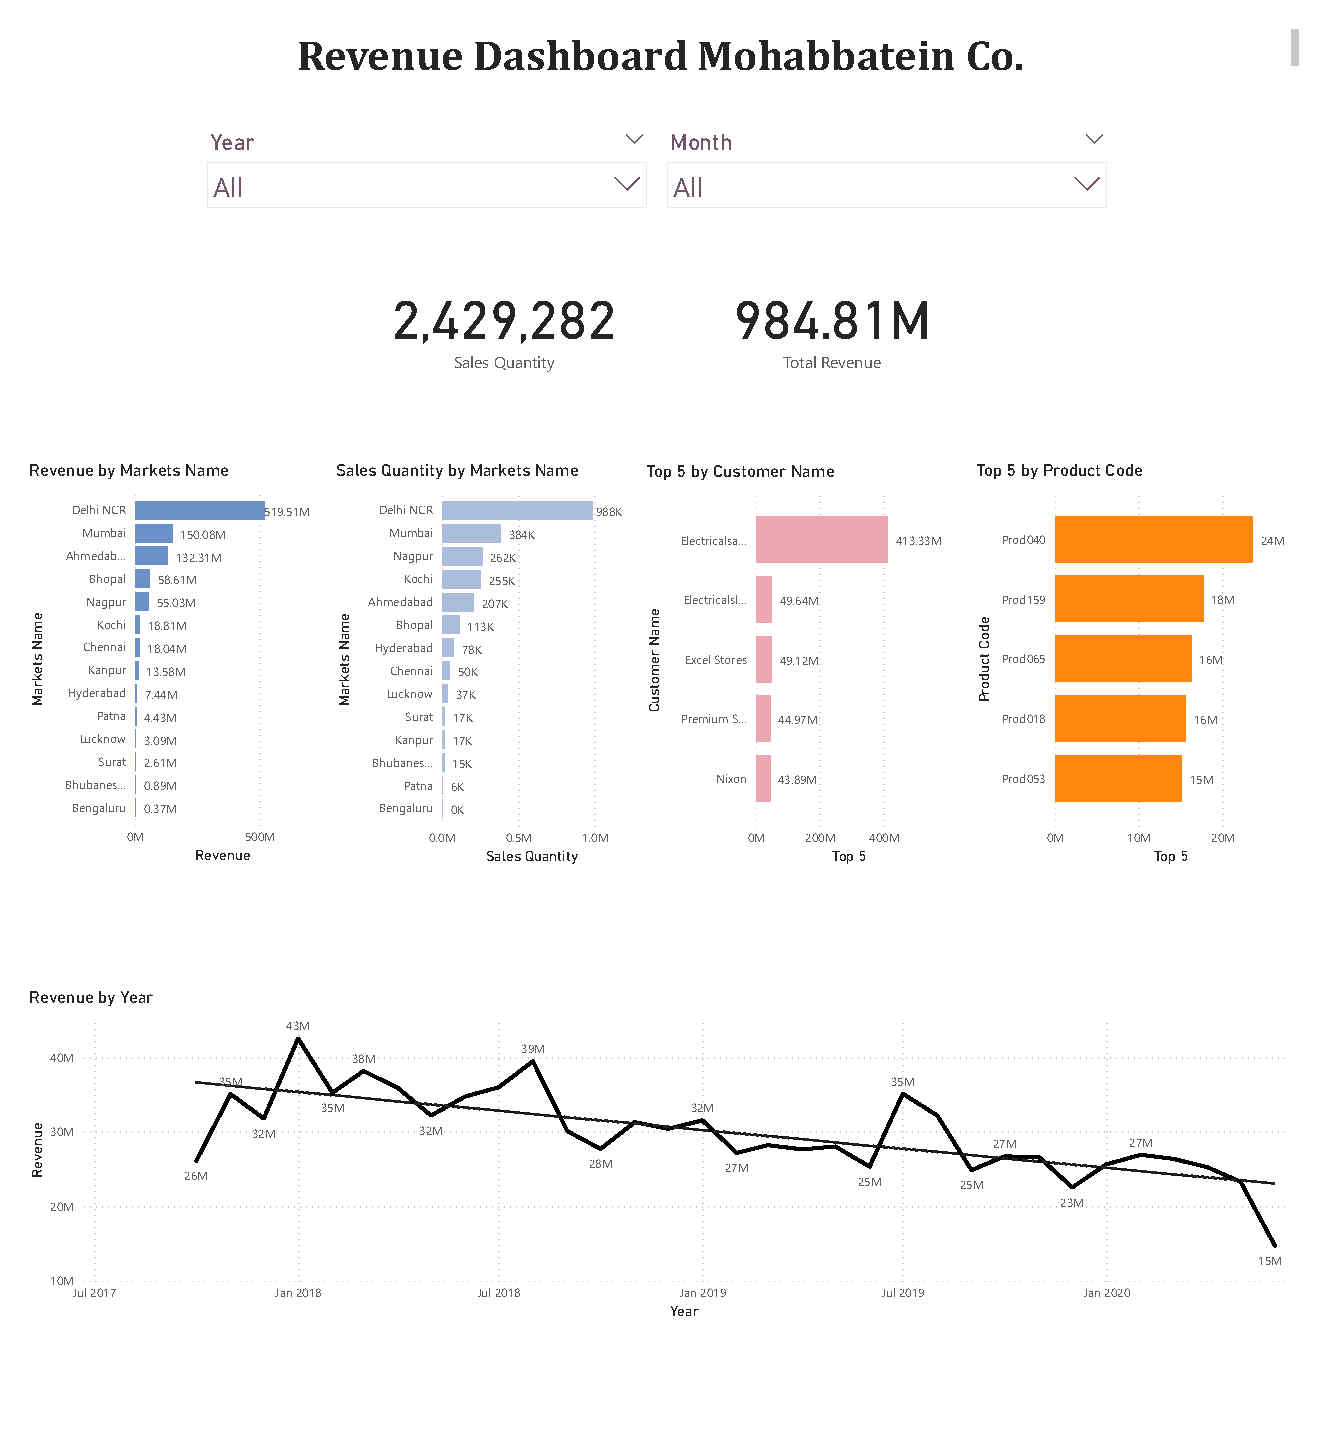

What the dashboard file says about the page in this screenshot:
{"tool":"powerbi","page":{"name":"Revenue","canvas":[1280,1400],"ordinal":0},"visuals":[{"type":"card","fields":{"Values":["sales transactions.sales_qty"]},"box":[326.7,208,306.7,183.3],"z":0},{"type":"card","fields":{"Values":["sales transactions.sales_amount"]},"box":[633.3,208,350,183.3],"z":1000},{"type":"clusteredBarChart","fields":{"Category":["sales markets.markets_name"],"Y":["sales transactions.sales_amount"]},"box":[0,436,306.7,408.3],"z":2000},{"type":"clusteredBarChart","fields":{"Category":["sales markets.markets_name"],"Y":["sales transactions.sales_qty"]},"box":[306.7,436.3,310,408.3],"z":3000},{"type":"clusteredBarChart","fields":{"Category":["sales customers.customer_name"],"Y":["sales transactions.convert_amount"]},"box":[616.7,436.7,323.3,408.3],"z":4000},{"type":"clusteredBarChart","fields":{"Category":["sales products.product_code"],"Y":["sales transactions.convert_amount"]},"box":[946.7,436.3,333.3,408.3],"z":5000},{"type":"lineChart","fields":{"Y":["sales transactions.convert_amount"],"Category":["sales date.cy_date"]},"box":[0,963.3,1280,336.7],"z":6000},{"type":"slicer","fields":{"Values":["sales date.cy_date.Variation.Date Hierarchy.Year"]},"box":[173.3,100,460,88.3],"z":7000},{"type":"slicer","fields":{"Values":["sales date.cy_date.Variation.Date Hierarchy.Month"]},"box":[633.3,100,460,88.3],"z":8000},{"type":"textbox","box":[0,0,1280,53.3],"z":9000}]}

Visuals, with their boxes on the page's 1280x1400 design canvas (x1, y1, x2, y2). These are canvas units, not pixel positions in the 1328x1448 screenshot, which may show the page scaled, cropped or inside an application window:
card - sales transactions.sales_qty: <box>327,208,633,391</box>
card - sales transactions.sales_amount: <box>633,208,983,391</box>
clusteredBarChart - sales markets.markets_name x sales transactions.sales_amount: <box>0,436,307,844</box>
clusteredBarChart - sales markets.markets_name x sales transactions.sales_qty: <box>307,436,617,845</box>
clusteredBarChart - sales customers.customer_name x sales transactions.convert_amount: <box>617,437,940,845</box>
clusteredBarChart - sales products.product_code x sales transactions.convert_amount: <box>947,436,1280,845</box>
lineChart - sales transactions.convert_amount x sales date.cy_date: <box>0,963,1280,1300</box>
slicer - sales date.cy_date.Variation.Date Hierarchy.Year: <box>173,100,633,188</box>
slicer - sales date.cy_date.Variation.Date Hierarchy.Month: <box>633,100,1093,188</box>
textbox: <box>0,0,1280,53</box>
